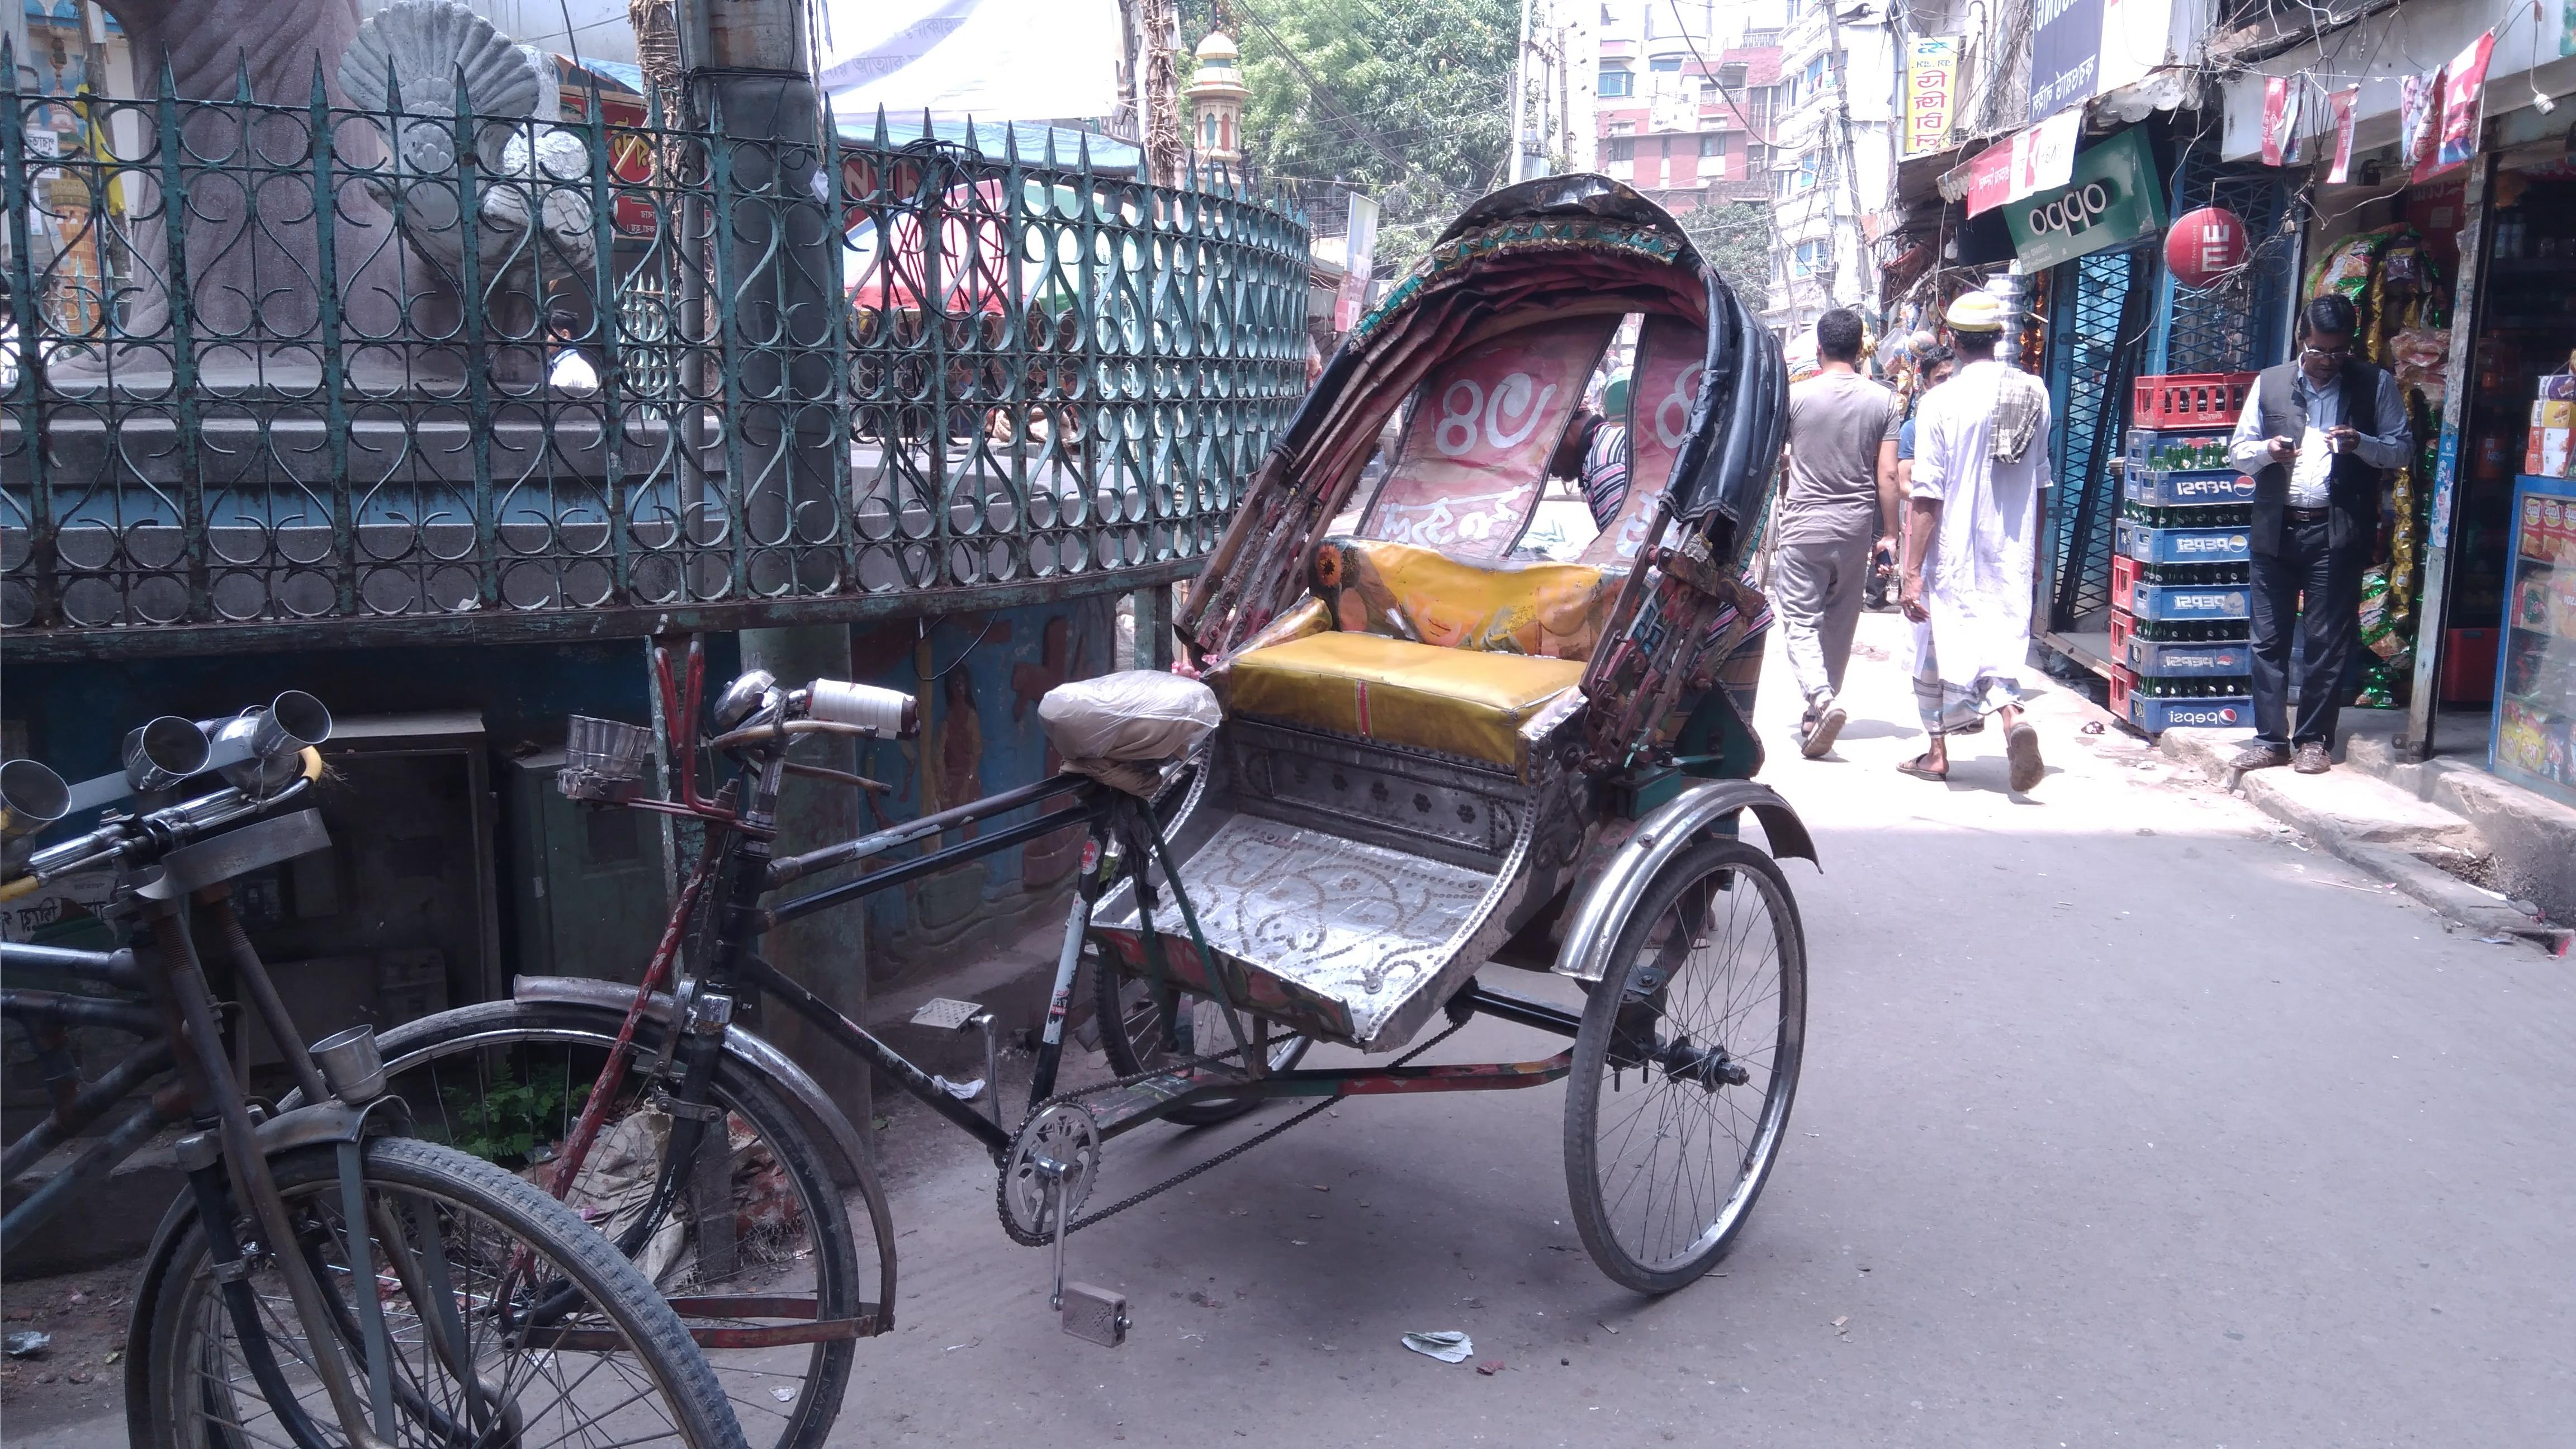Rickshaw: (249, 150, 1829, 1410)
